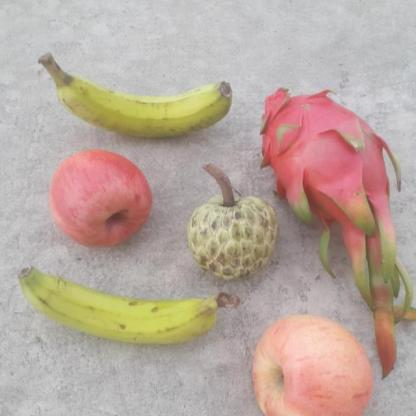annona: (187, 191, 278, 284)
apple: (245, 313, 374, 416), (46, 148, 152, 252)
banana: (34, 51, 236, 141), (15, 266, 224, 346)
pitaya: (258, 88, 416, 350)
